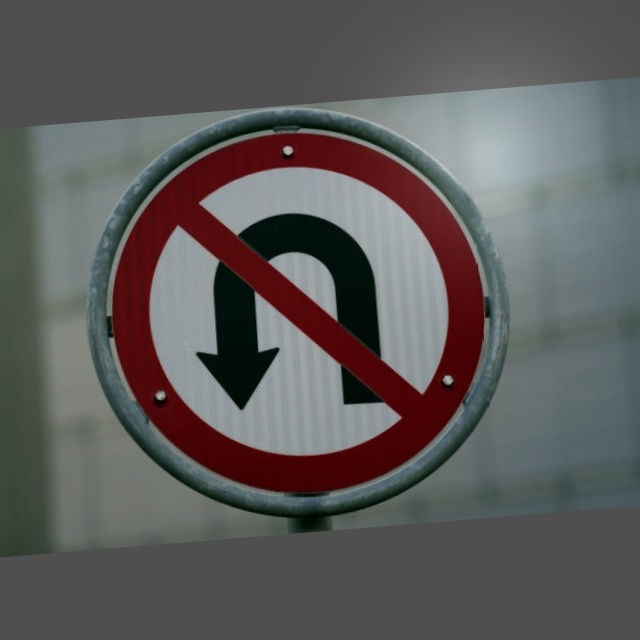U_Turn_Prohibited: (73, 89, 508, 527)
